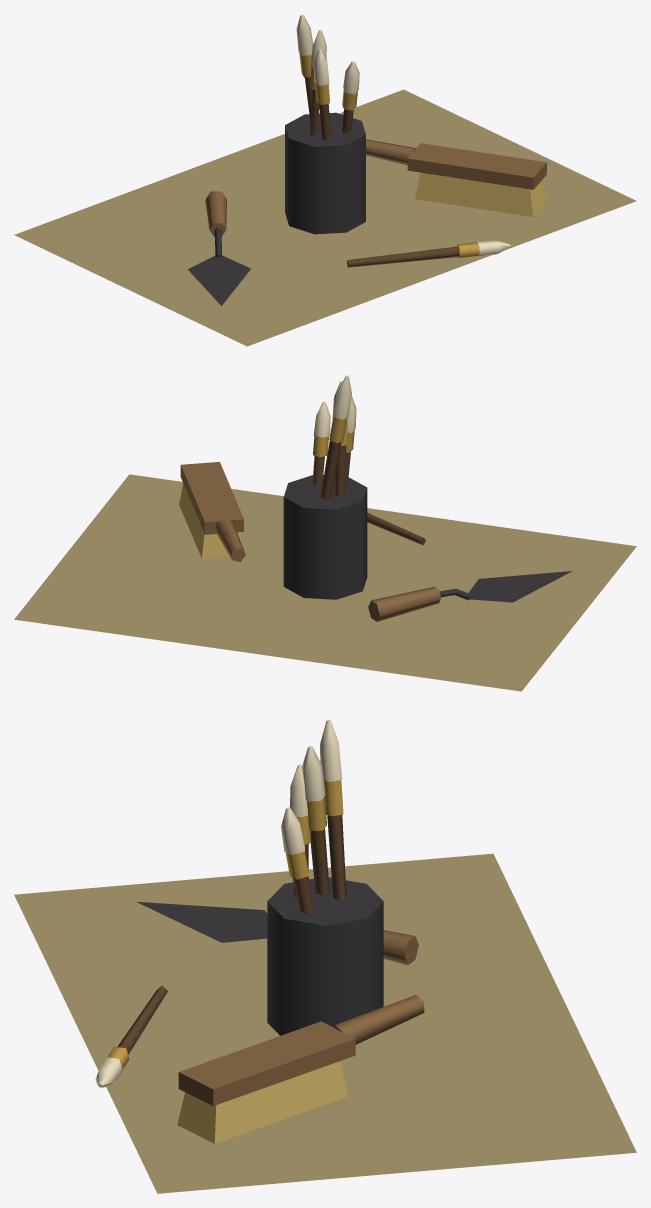
The model's file is brushes.glb.
3 views of the same model, one above another, from view 1: azimuth 30°, elevation 25°; view 2: azimuth 150°, elevation 25°; view 3: azimuth 270°, elevation 25° (orthographic). The views are drawn at different scales.
Parts seen in each view (by area): view 1: brushes; view 2: brushes; view 3: brushes.
Boxes of the visible parts, bbox=[...] form: brushes: bbox=[14, 14, 636, 346]; brushes: bbox=[14, 375, 636, 691]; brushes: bbox=[14, 720, 636, 1193].
Size of the model in its own units: 0.6911 by 0.2749 by 0.5348.
